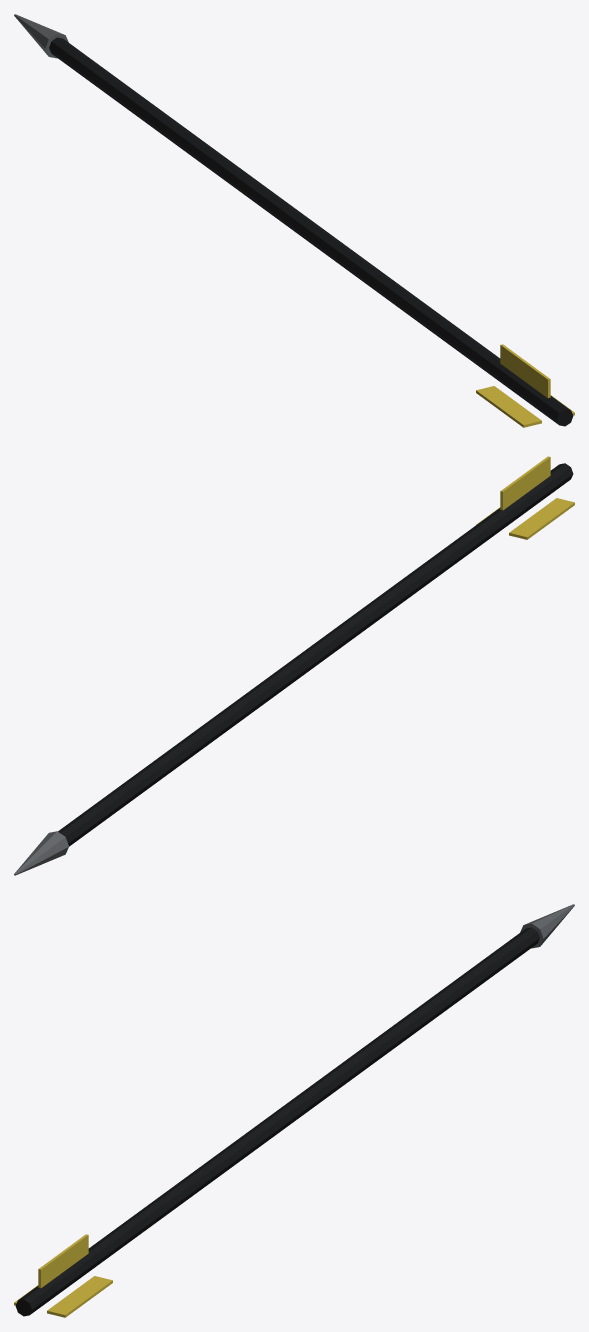
Rendered from bolt.glb.
The picture shows the model from 3 angles, top to bottom: view 1: azimuth 30°, elevation 25°; view 2: azimuth 150°, elevation 25°; view 3: azimuth 330°, elevation 25°; orthographic projection.
Visible parts, largest first — view 1: bolt; view 2: bolt; view 3: bolt.
Boxes of the visible parts, box(x1,y1,x2,y2) form: bolt: box(14, 14, 574, 427); bolt: box(14, 456, 574, 875); bolt: box(14, 904, 574, 1317).
Size of the model in its own units: 0.028 by 0.022 by 0.52.
